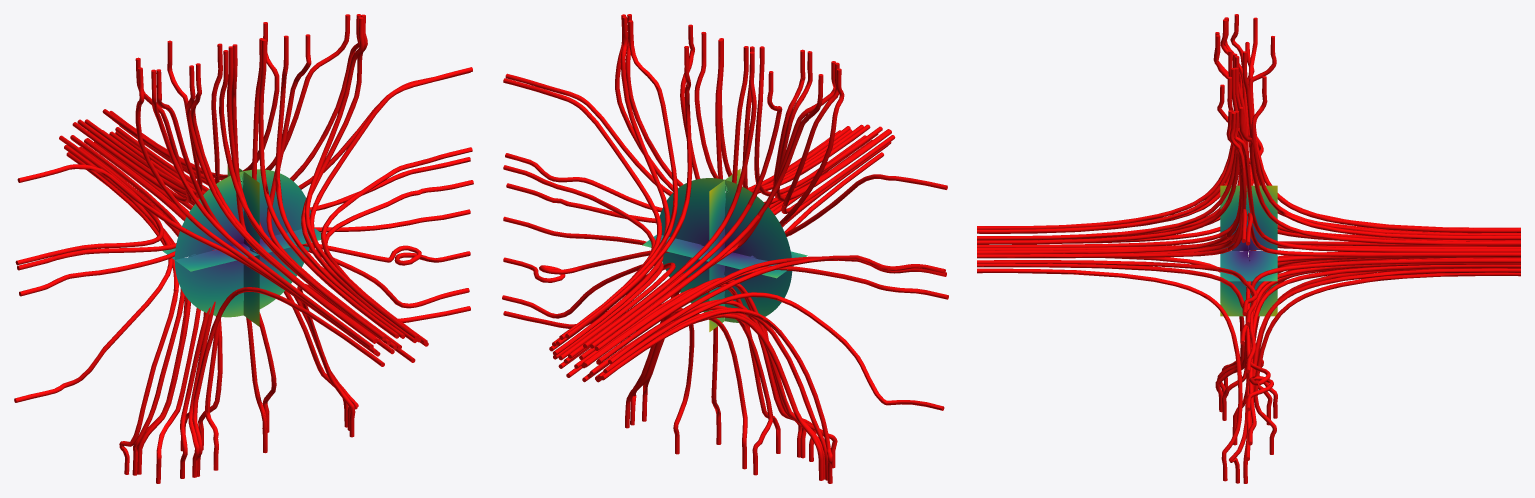
The model's file is Imedco-g10_compressed.glb.
3 views of the same model, side by side, from view 1: azimuth 30°, elevation 25°; view 2: azimuth 150°, elevation 25°; view 3: azimuth 270°, elevation 25° (orthographic). The views are drawn at different scales.
Parts seen in each view (by area): view 1: Mesh_104.001, Mesh_103.001, Mesh_105.001, Mesh_95.001, Mesh_82.001, Mesh_101.001, Mesh_4.001, Mesh_50.001, Mesh_74.001, Mesh_69.001, Mesh_96.001, Mesh_17.001 (+60 smaller); view 2: Mesh_104.001, Mesh_103.001, Mesh_105.001, Mesh_32.001, Mesh_10.001, Mesh_101.001, Mesh_2.001, Mesh_52.001, Mesh_28.001, Mesh_95.001, Mesh_55.001, Mesh_100.001 (+53 smaller); view 3: Mesh_103.001, Mesh_105.001, Mesh_64.001, Mesh_96.001, Mesh_55.001, Mesh_51.001, Mesh_2.001, Mesh_70.001, Mesh_4.001, Mesh_88.001, Mesh_94.001, Mesh_74.001 (+21 smaller).
Part boxes in pixels (x1,y1,x2,y2): Mesh_104.001: (174, 169, 310, 317); Mesh_103.001: (227, 165, 259, 326); Mesh_105.001: (162, 228, 321, 271); Mesh_95.001: (314, 67, 472, 204); Mesh_82.001: (205, 213, 373, 349); Mesh_101.001: (14, 273, 169, 402); Mesh_4.001: (239, 197, 386, 340); Mesh_50.001: (119, 290, 178, 474); Mesh_74.001: (264, 195, 399, 338); Mesh_69.001: (132, 288, 184, 475); Mesh_96.001: (275, 178, 405, 338); Mesh_17.001: (17, 164, 185, 232); Mesh_104.001: (660, 178, 792, 322); Mesh_103.001: (709, 168, 740, 331); Mesh_105.001: (642, 234, 807, 278); Mesh_32.001: (597, 258, 786, 363); Mesh_10.001: (583, 192, 740, 348); Mesh_101.001: (777, 295, 944, 410); Mesh_2.001: (590, 204, 751, 348); Mesh_52.001: (503, 78, 656, 212); Mesh_28.001: (594, 215, 760, 350); Mesh_95.001: (505, 73, 672, 195); Mesh_55.001: (565, 187, 691, 338); Mesh_100.001: (603, 292, 777, 373); Mesh_103.001: (1220, 185, 1277, 316); Mesh_105.001: (1220, 245, 1277, 281); Mesh_64.001: (977, 268, 1229, 320); Mesh_96.001: (977, 199, 1231, 244); Mesh_55.001: (1270, 199, 1520, 240); Mesh_51.001: (1266, 248, 1520, 256); Mesh_2.001: (1264, 178, 1520, 232); Mesh_70.001: (1266, 258, 1520, 274); Mesh_4.001: (977, 186, 1220, 233); Mesh_88.001: (1277, 220, 1520, 245); Mesh_94.001: (977, 247, 1228, 258); Mesh_74.001: (977, 201, 1220, 240).
Size of the model in its own units: 1.64 by 1.43 by 1.89.
4 materials, 4 textured.
